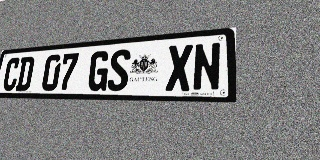0: (41, 54, 62, 91)
7: (57, 53, 79, 91)
C: (2, 57, 21, 91)
D: (15, 56, 35, 91)
G: (87, 50, 110, 91)
N: (192, 42, 221, 91)
S: (107, 49, 131, 91)
X: (165, 44, 193, 91)
